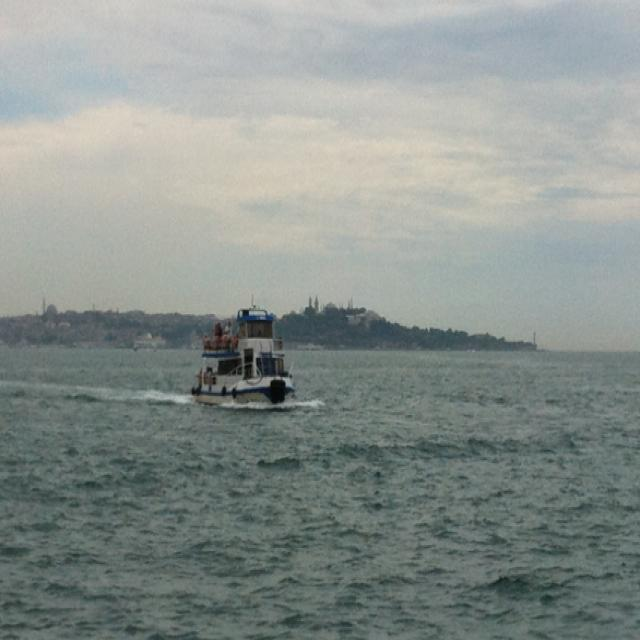fishing boat: (194, 305, 296, 408)
